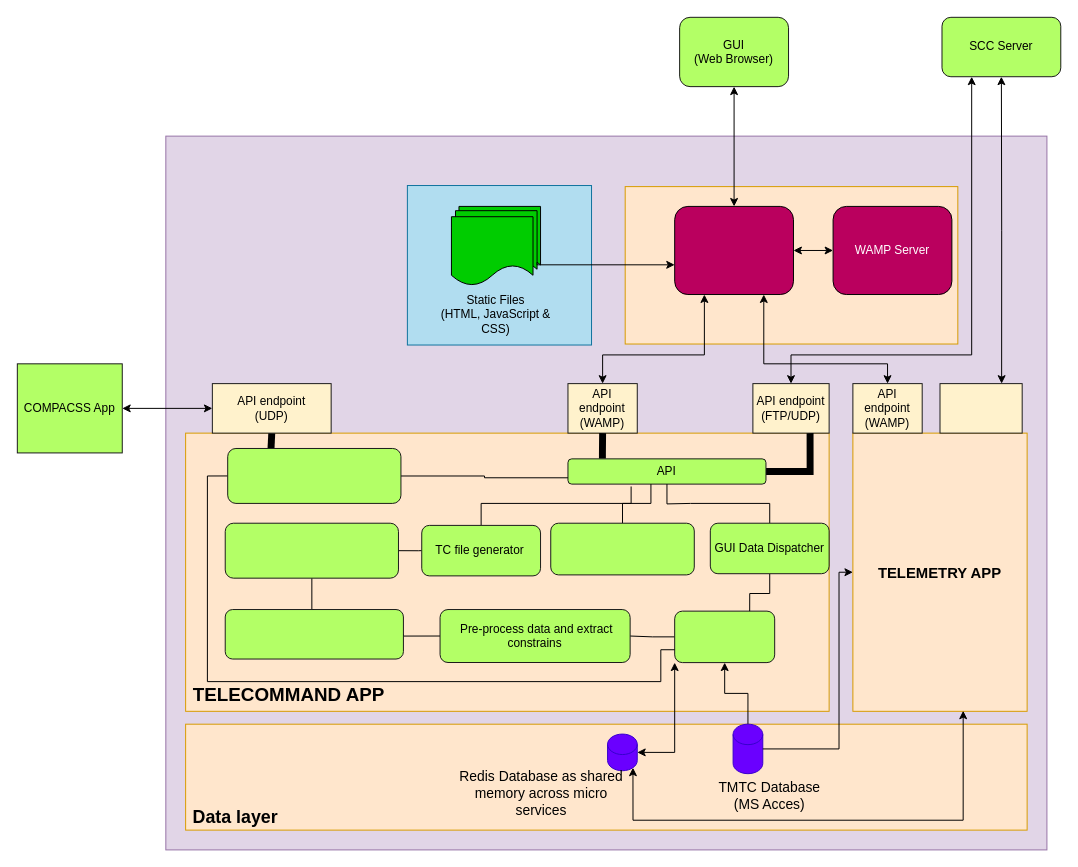
The diagram is 1078 pixels wide and 867 high, and some of its shapes have lost their labels. Here are the shapes that lost their labels. From the top down, the box of each, then its label:
(674, 205, 793, 295): nginx Server (WAMP request are proxyed to WAMP server)
(939, 383, 1022, 433): API endpoint (WEB SOCKET)
(227, 447, 401, 503): COMPACSS Interface Module
(224, 522, 398, 578): BOA commands,DATA commands & Parameter Base command Handler
(550, 522, 694, 575): TC file transfer and trigger execution on SCC
(224, 609, 403, 659): TC pre-condition and post-condition Process
(674, 610, 775, 663): Database Access
